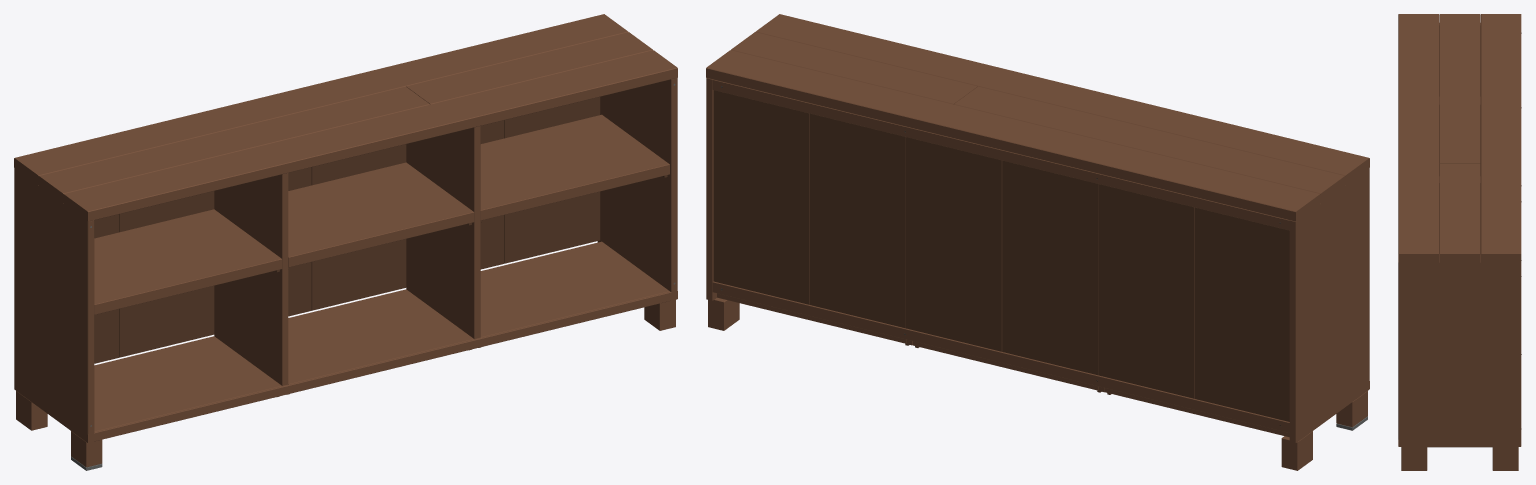
File: main-record-credenza-10e542d5c50e.glb
3 views of the same model, side by side, from view 1: azimuth 30°, elevation 25°; view 2: azimuth 150°, elevation 25°; view 3: azimuth 270°, elevation 25° (orthographic). The views are drawn at different scales.
Visible parts, largest first — view 1: wood-coffee, wood-coffee-inset; view 2: wood-coffee-inset, wood-coffee; view 3: wood-coffee.
Boxes of the visible parts, x1,y1,x2,y2 form: wood-coffee: (14, 14, 677, 467); wood-coffee-inset: (94, 97, 667, 396); wood-coffee-inset: (713, 90, 1289, 421); wood-coffee: (706, 14, 1369, 470); wood-coffee: (1398, 14, 1521, 470).
Size of the model in its own units: 1.8 by 0.76 by 0.3901.
